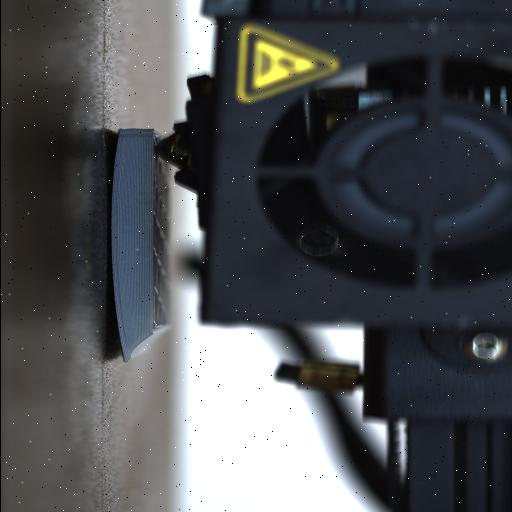warp: (102, 258, 136, 370), (107, 123, 129, 161)
